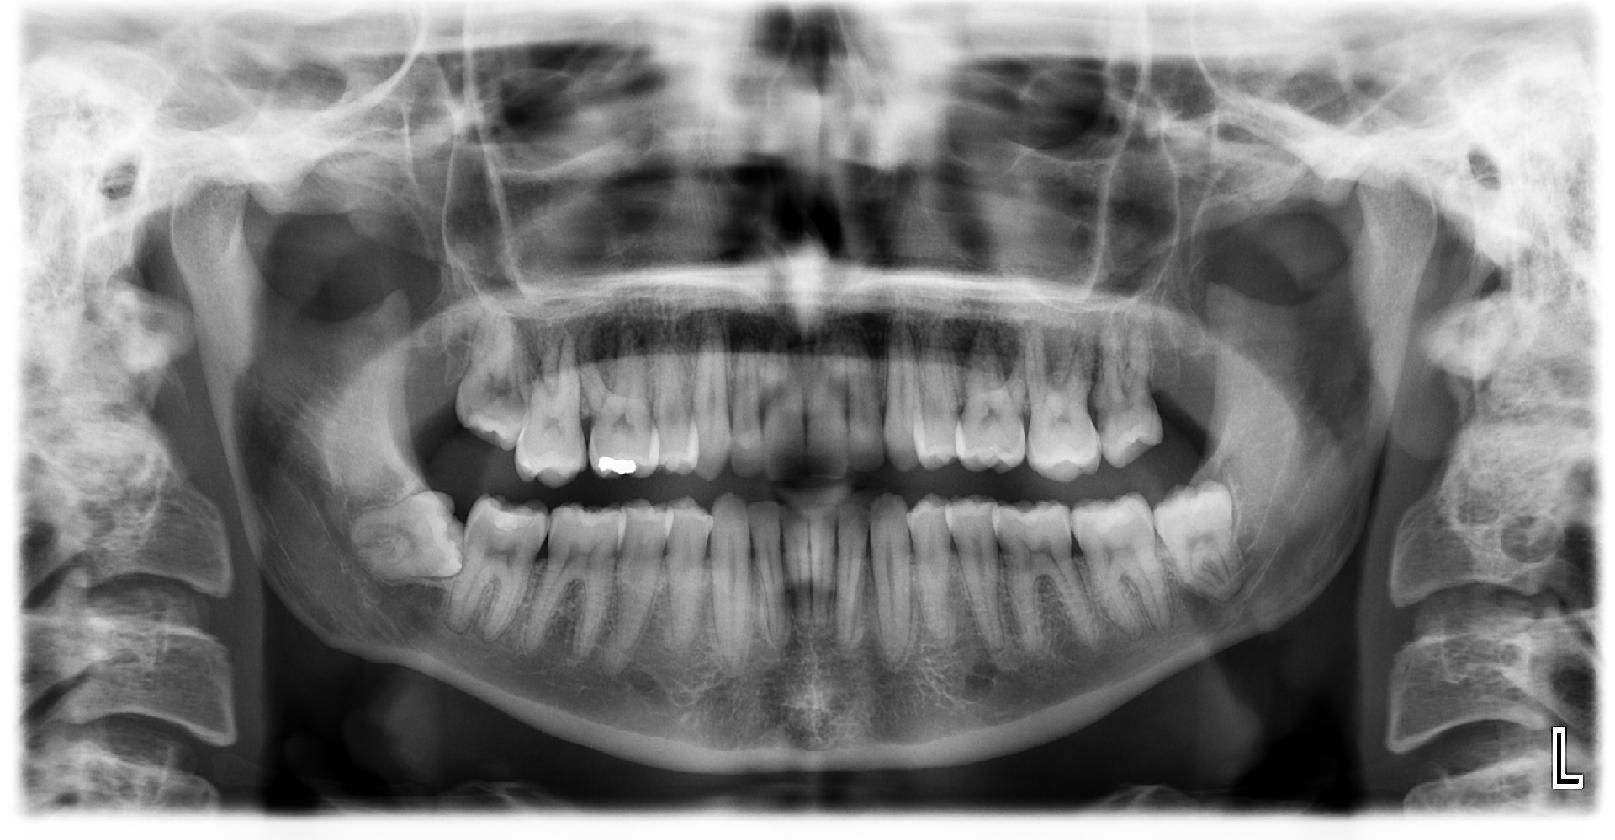Mesio-angular: (344, 485, 469, 584)
Vertical: (1154, 480, 1244, 594)
